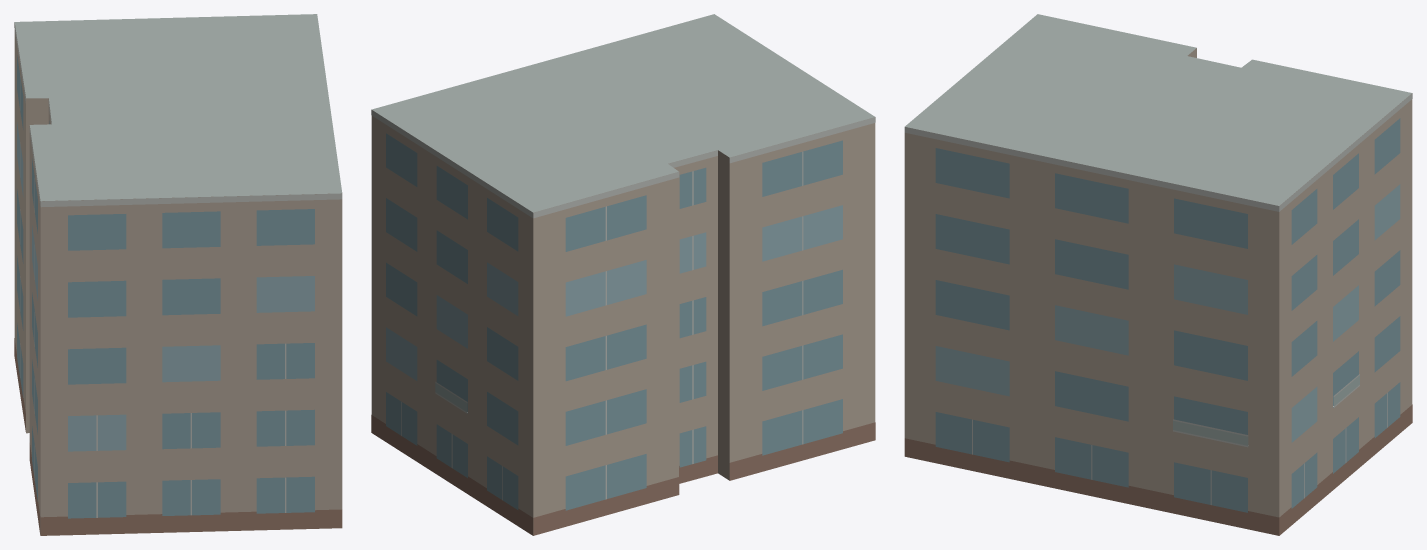
File: survey-upis-32889605.glb
3 views of the same model, side by side, from view 1: azimuth 30°, elevation 25°; view 2: azimuth 150°, elevation 25°; view 3: azimuth 270°, elevation 25° (orthographic). The views are drawn at different scales.
Parts seen in each view (by area): view 1: survey-upis-32889605.tmp; view 2: survey-upis-32889605.tmp; view 3: survey-upis-32889605.tmp.
Boxes of the visible parts, x1,y1,x2,y2 form: survey-upis-32889605.tmp: (14, 14, 342, 535); survey-upis-32889605.tmp: (371, 14, 875, 535); survey-upis-32889605.tmp: (904, 14, 1412, 535).
Size of the model in its own units: 16.99 by 13.6 by 18.98.
